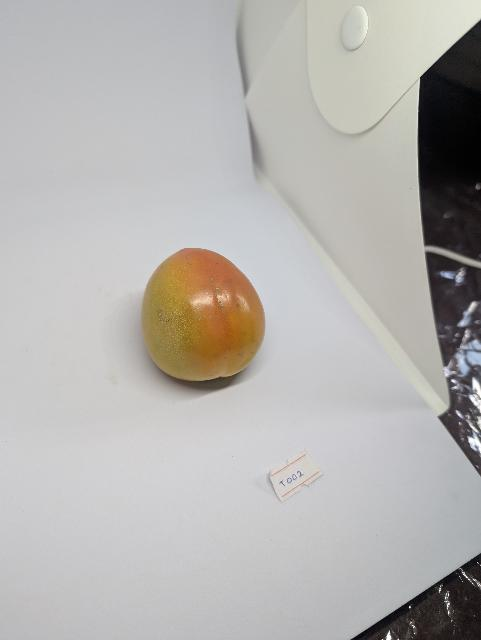turning: (126, 241, 275, 388)
